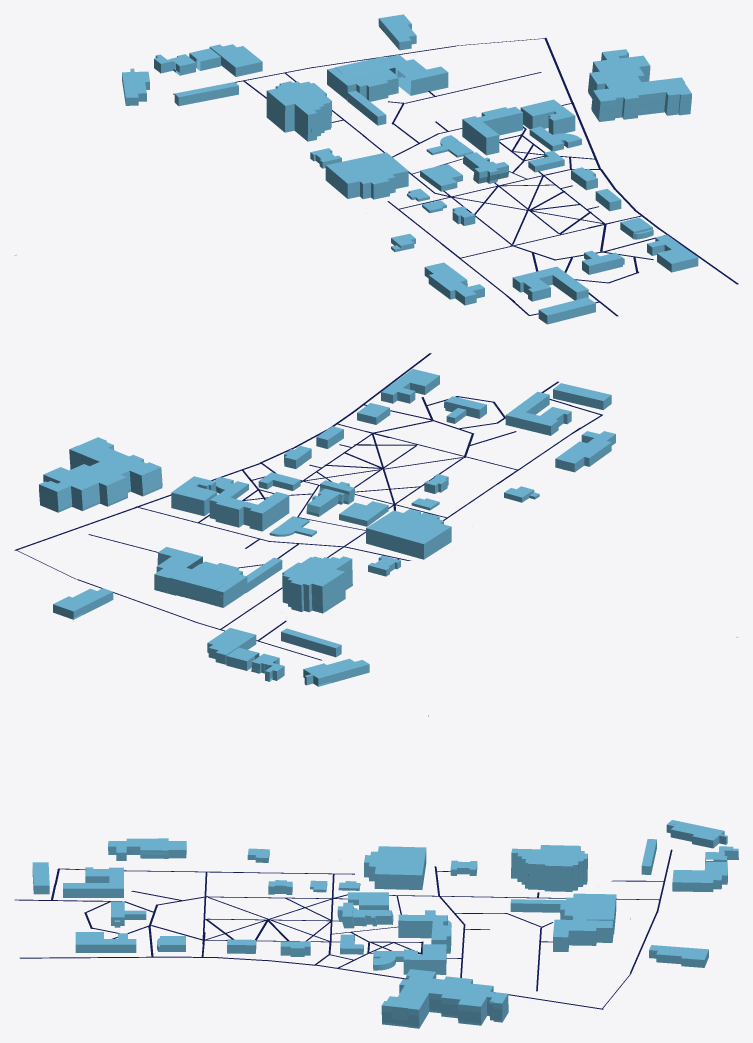
Rendered from myURImodel3.glb.
3 views of the same model, one above another, from view 1: azimuth 30°, elevation 25°; view 2: azimuth 150°, elevation 25°; view 3: azimuth 270°, elevation 25° (orthographic). The views are drawn at different scales.
Parts seen in each view (by area): view 1: map_7.osm_paths_footway.001, Fine Arts Center, Chafee Social Science Center, Robert L. Carothers Library & Learning Commons, CBLS, The Fascitelli Center for Advance Engineering, Quinn Hall, Center for Biotechnology & Life Sciences, Tyler Hall, Memorial Union, Kirk Applied Engineering Lab, Swan Hall (+12 smaller); view 2: Fine Arts Center, map_7.osm_paths_footway.001, Chafee Social Science Center, Robert L. Carothers Library & Learning Commons, CBLS, The Fascitelli Center for Advance Engineering, Quinn Hall, Center for Biotechnology & Life Sciences, Memorial Union, Kirk Applied Engineering Lab, Swan Hall, White Hall (+11 smaller); view 3: map_7.osm_paths_footway.001, Fine Arts Center, Chafee Social Science Center, Robert L. Carothers Library & Learning Commons, Tyler Hall, Quinn Hall, CBLS, Memorial Union, The Fascitelli Center for Advance Engineering, Center for Biotechnology & Life Sciences, Swan Hall, Kirk Applied Engineering Lab (+8 smaller).
Part boxes in pixels (box(x1,y1,x2,y2)): map_7.osm_paths_footway.001: box(173, 37, 738, 316); Fine Arts Center: box(588, 49, 691, 121); Chafee Social Science Center: box(266, 81, 331, 141); Robert L. Carothers Library & Learning Commons: box(14, 152, 408, 255); CBLS: box(327, 57, 398, 101); The Fascitelli Center for Advance Engineering: box(462, 106, 522, 155); Quinn Hall: box(512, 266, 588, 301); Center for Biotechnology & Life Sciences: box(175, 44, 262, 76); Tyler Hall: box(384, 54, 448, 95); Memorial Union: box(424, 262, 484, 305); Kirk Applied Engineering Lab: box(520, 99, 575, 134); Swan Hall: box(647, 234, 698, 272); Fine Arts Center: box(39, 437, 162, 512); map_7.osm_paths_footway.001: box(14, 353, 602, 660); Chafee Social Science Center: box(282, 556, 352, 613); Robert L. Carothers Library & Learning Commons: box(366, 510, 738, 637); CBLS: box(167, 561, 247, 607); The Fascitelli Center for Advance Engineering: box(209, 492, 289, 531); Quinn Hall: box(505, 391, 571, 435); Center for Biotechnology & Life Sciences: box(207, 628, 269, 673); Memorial Union: box(555, 431, 615, 472); Kirk Applied Engineering Lab: box(171, 476, 217, 516); Swan Hall: box(381, 369, 439, 403); White Hall: box(303, 658, 369, 686); map_7.osm_paths_footway.001: box(14, 849, 672, 1009); Fine Arts Center: box(381, 969, 508, 1028); Chafee Social Science Center: box(511, 845, 587, 891); Robert L. Carothers Library & Learning Commons: box(364, 715, 428, 889); Tyler Hall: box(553, 919, 613, 951); Quinn Hall: box(63, 867, 123, 897); CBLS: box(560, 886, 630, 934); Memorial Union: box(108, 838, 186, 860); The Fascitelli Center for Advance Engineering: box(398, 914, 451, 953); Center for Biotechnology & Life Sciences: box(672, 854, 738, 891); Swan Hall: box(75, 932, 136, 952); Kirk Applied Engineering Lab: box(403, 944, 446, 974).
Size of the model in its own units: 2178 by 87.72 by 2127.
